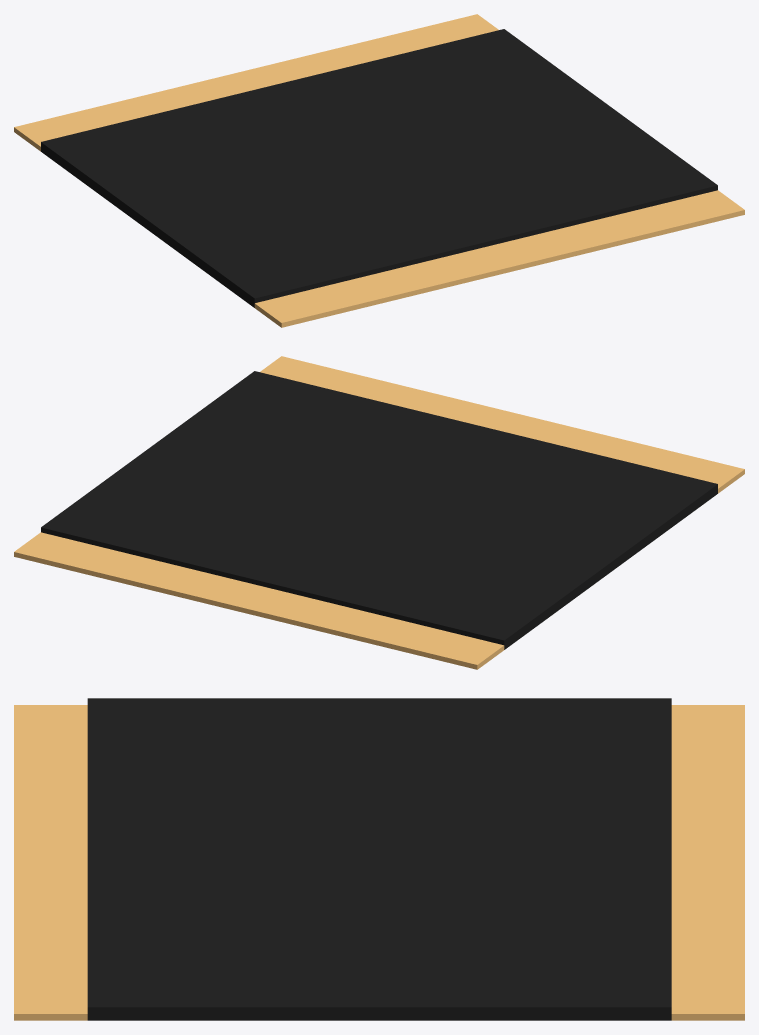
File: NOVA FASE BASE Asfalto.fbx
The picture shows the model from 3 angles, top to bottom: view 1: azimuth 30°, elevation 25°; view 2: azimuth 150°, elevation 25°; view 3: azimuth 270°, elevation 25°; orthographic projection. The views are drawn at different scales.
Visible parts, largest first — view 1: Asfalto 01; view 2: Asfalto 01; view 3: Asfalto 01.
Boxes of the visible parts, x1,y1,x2,y2 form: Asfalto 01: (14,14,744,327); Asfalto 01: (14,356,744,669); Asfalto 01: (14,698,744,1020).
Bounding box in the file's own units: 5 × 0.1 × 5.
